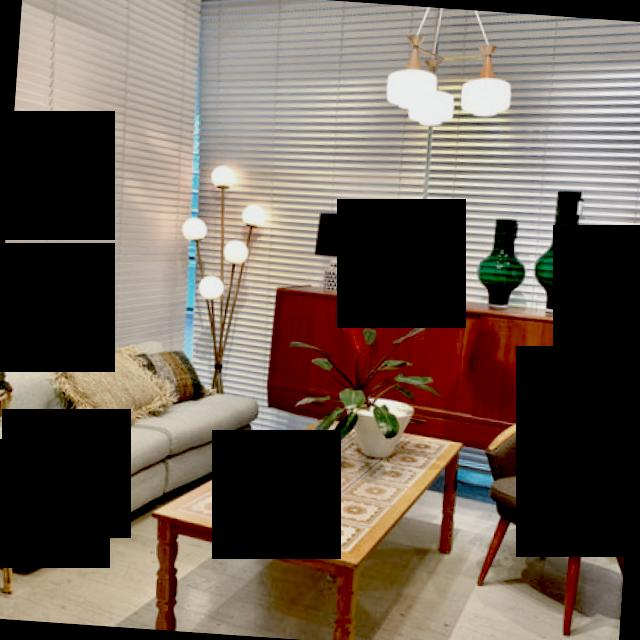vintage chair: (468, 397, 634, 633)
vintage desk: (150, 413, 468, 640)
vintage shelf: (259, 289, 615, 436)
vintage sofa: (0, 326, 258, 591)
